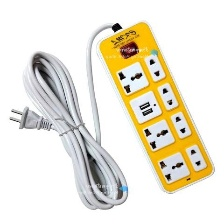three_eye_plug: (94, 14, 217, 195)
